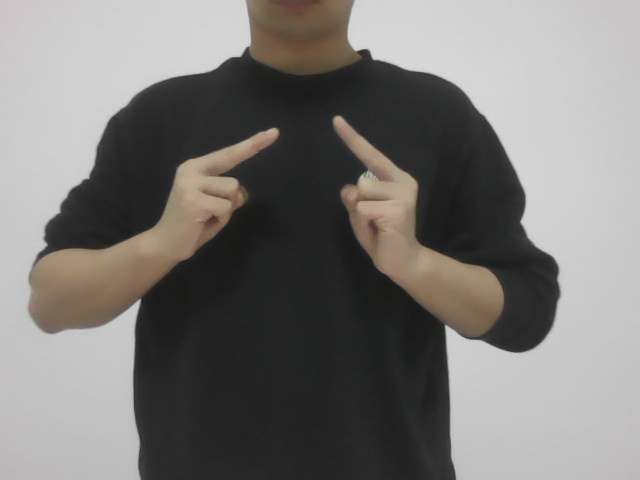know: (153, 117, 437, 284)
